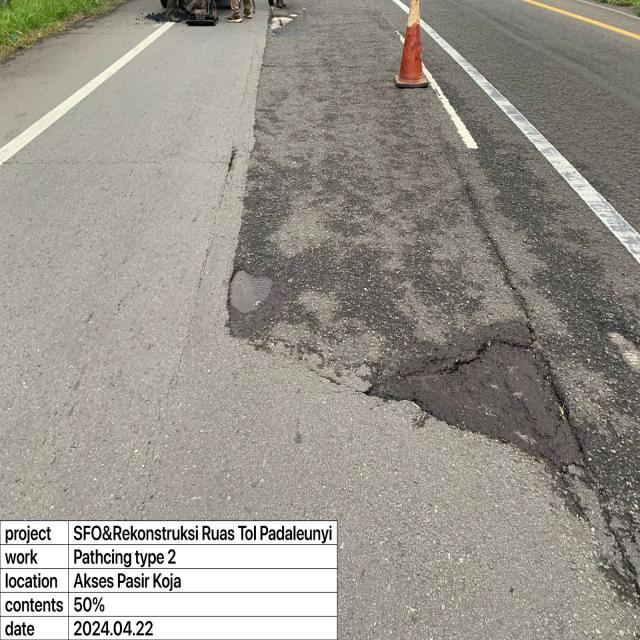Buraco: (359, 320, 596, 477), (594, 314, 640, 378), (225, 264, 278, 318), (265, 11, 302, 37), (225, 144, 242, 174)
